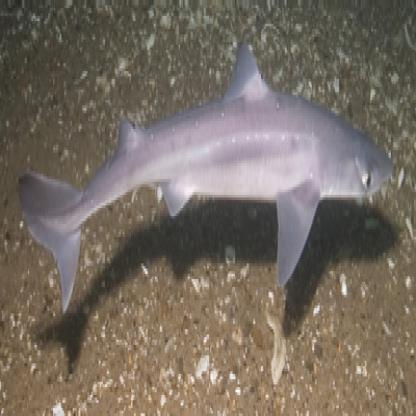Shark -Selachimorpha-: (14, 25, 398, 312)
